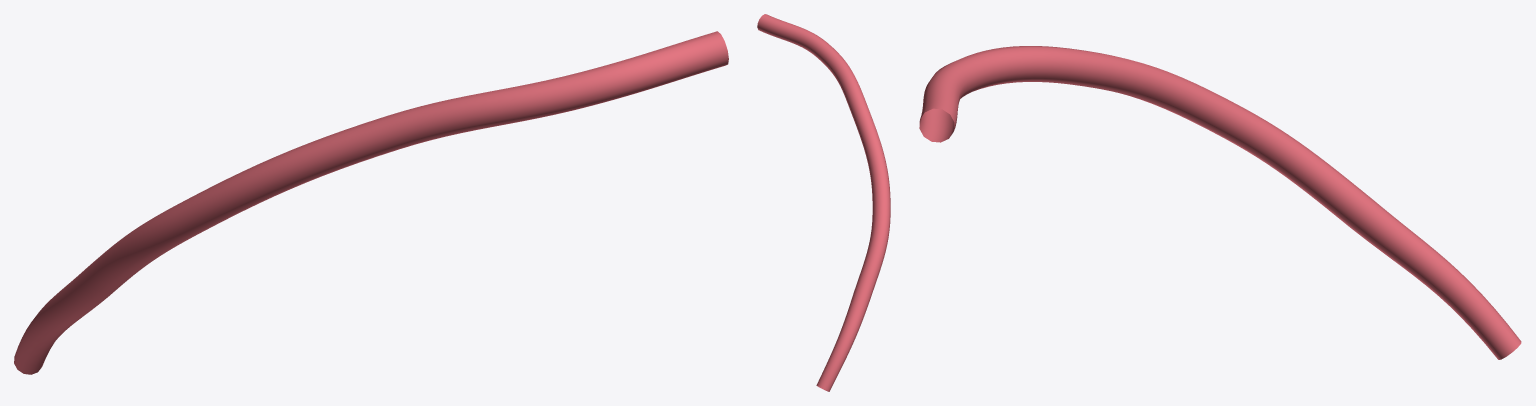
3 views of the same model, side by side, from view 1: azimuth 30°, elevation 25°; view 2: azimuth 150°, elevation 25°; view 3: azimuth 270°, elevation 25° (orthographic). The views are drawn at different scales.
Parts seen in each view (by area): view 1: ZA_35f207b2bc7cdb8b; view 2: ZA_35f207b2bc7cdb8b; view 3: ZA_35f207b2bc7cdb8b.
Part boxes in pixels (x1=…): ZA_35f207b2bc7cdb8b: x1=14, y1=31, x2=728, y2=374; ZA_35f207b2bc7cdb8b: x1=757, y1=14, x2=890, y2=391; ZA_35f207b2bc7cdb8b: x1=919, y1=46, x2=1521, y2=359.
Bounding box in the file's own units: 0.0304 × 0.0301 × 0.0367.
